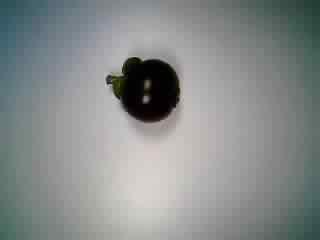mangosteen: (102, 46, 181, 126)
